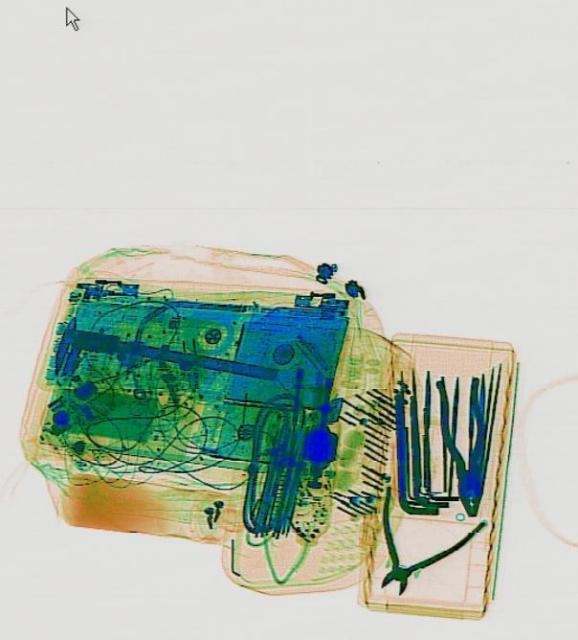Pliers: (344, 478, 483, 616), (433, 374, 494, 518)
